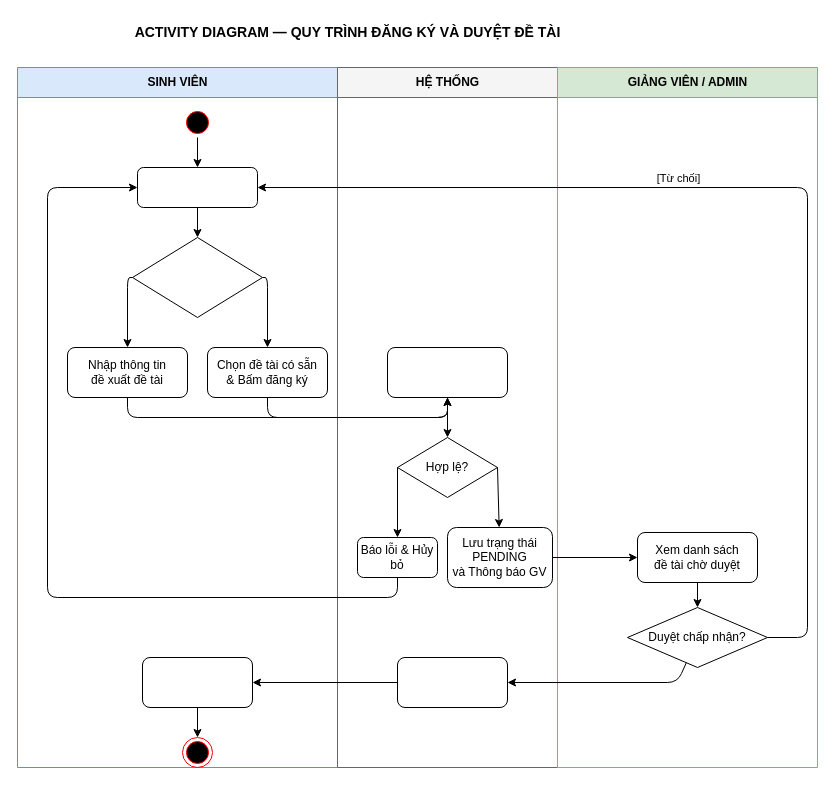
Some shapes in this 835 by 785 pixel diagram are drawn without their labels. Each missing label, with the centre of its shape:
Cập nhật Database, Tạo Project: (452,682)
Kiểm tra slot trống & điều kiện đăng ký: (447,372)
Nhận thông báo thành công: (197,682)
Đăng nhập & Vào trang ĐK: (197,187)
Đề tài có sẵn hay tự đề xuất?: (197,277)
